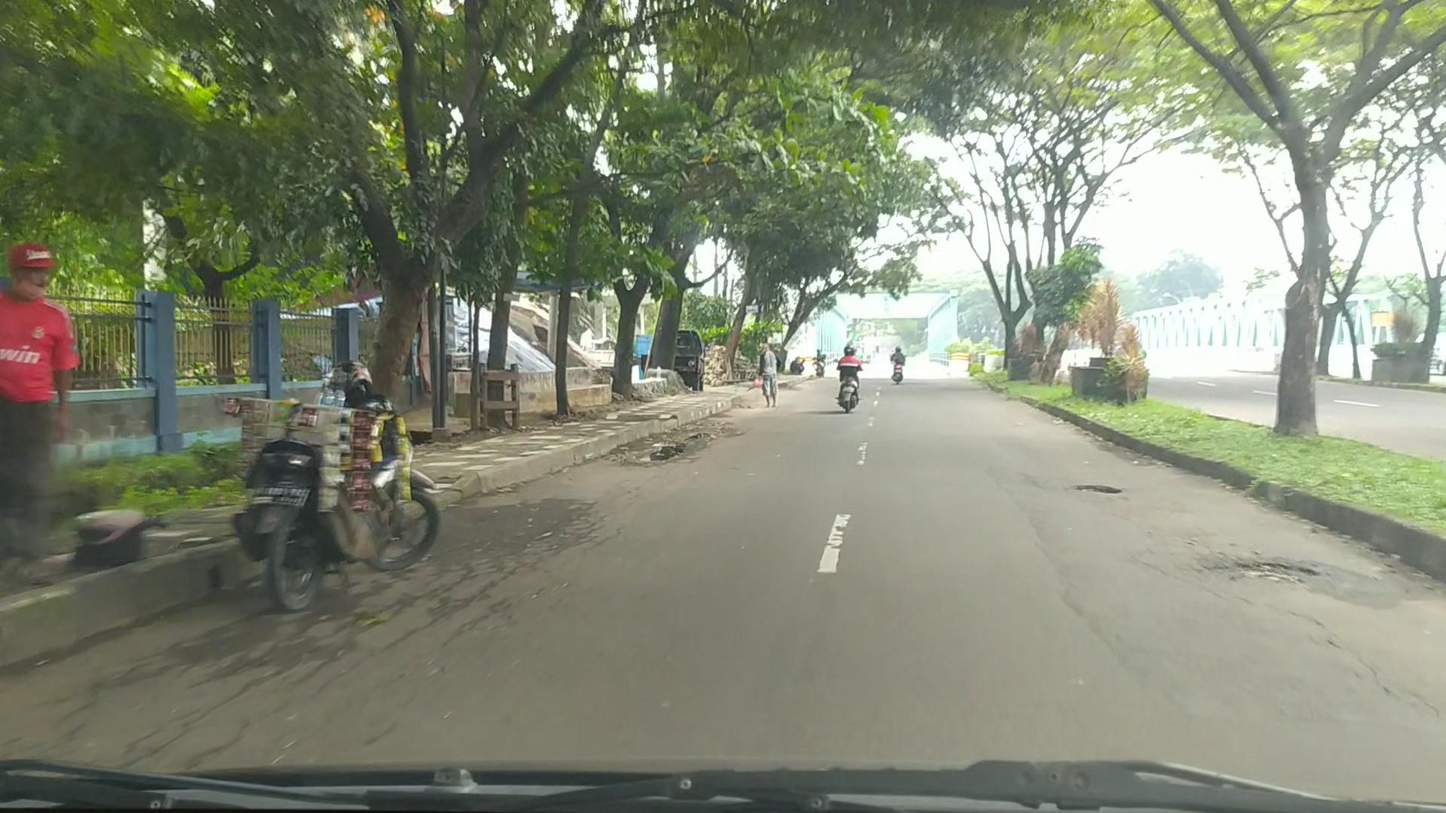pothole: (1210, 561, 1321, 588), (636, 442, 689, 463), (1075, 483, 1125, 495), (685, 432, 710, 441)
